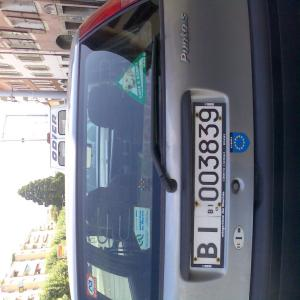Vehicle-registration-plate: (192, 104, 227, 268)
